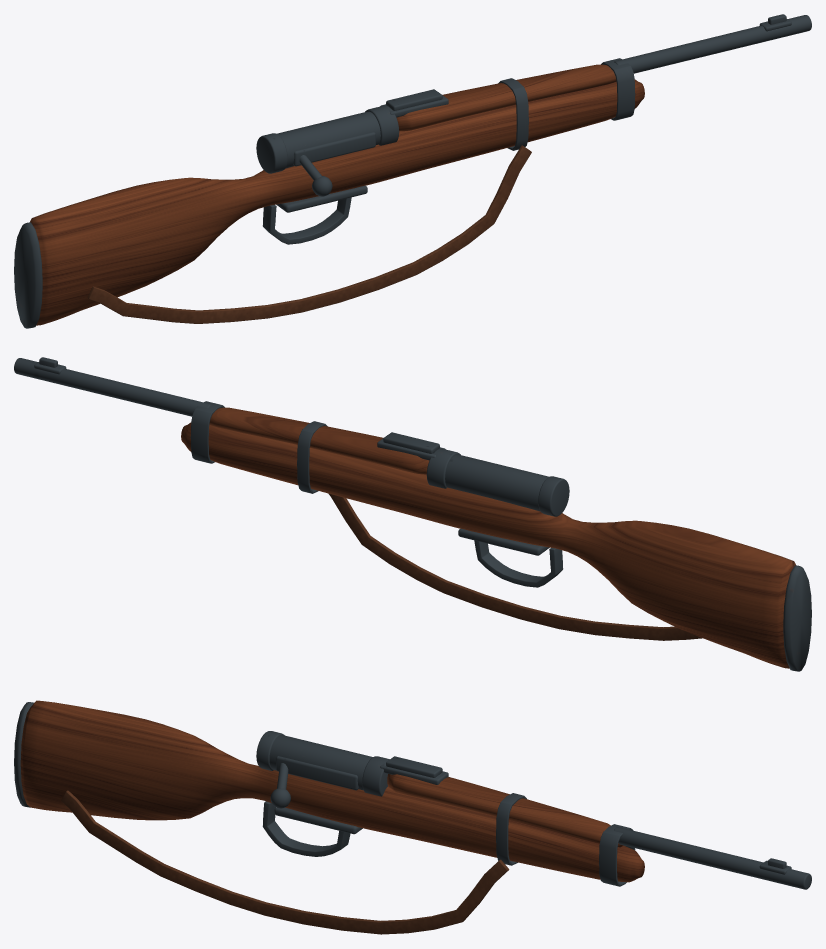
Rendered from kar98k-exterior-standard.glb.
3 views of the same model, one above another, from view 1: azimuth 30°, elevation 25°; view 2: azimuth 150°, elevation 25°; view 3: azimuth 330°, elevation 25° (orthographic).
Parts seen in each view (by area): view 1: stock_shell, sling_visual, upper_wood_cover, solid_front_visual_no_bore, butt_cap, closed_upper_metal_shell, external_guard_no_trigger, upper_shell_side_plate, front_contour_band, rear_shell_rim, decorative_band, underside_solid_detail (+2 smaller); view 2: stock_shell, sling_visual, upper_wood_cover, closed_upper_metal_shell, solid_front_visual_no_bore, butt_cap, external_guard_no_trigger, front_contour_band, rear_shell_rim, decorative_band, underside_solid_detail, front_shell_rim (+1 smaller); view 3: stock_shell, sling_visual, upper_wood_cover, solid_front_visual_no_bore, closed_upper_metal_shell, external_guard_no_trigger, upper_shell_side_plate, front_contour_band, decorative_band, front_shell_rim, underside_solid_detail, butt_cap (+3 smaller).
Boxes of the visible parts, x1,y1,x2,y2 form: stock_shell: (30, 79, 644, 325); sling_visual: (87, 145, 531, 323); upper_wood_cover: (396, 64, 616, 131); solid_front_visual_no_bore: (614, 15, 811, 73); butt_cap: (14, 222, 42, 328); closed_upper_metal_shell: (276, 111, 380, 168); external_guard_no_trigger: (262, 197, 351, 244); upper_shell_side_plate: (293, 132, 375, 166); front_contour_band: (601, 58, 635, 120); rear_shell_rim: (256, 133, 287, 173); decorative_band: (498, 78, 528, 150); underside_solid_detail: (276, 185, 367, 212); stock_shell: (181, 422, 795, 668); sling_visual: (328, 493, 702, 640); upper_wood_cover: (209, 407, 429, 474); closed_upper_metal_shell: (445, 454, 549, 511); solid_front_visual_no_bore: (14, 358, 211, 416); butt_cap: (783, 565, 811, 671); external_guard_no_trigger: (474, 540, 563, 587); front_contour_band: (190, 401, 224, 463); rear_shell_rim: (538, 476, 569, 516); decorative_band: (297, 421, 327, 493); underside_solid_detail: (458, 528, 549, 555); front_shell_rim: (426, 448, 460, 488); stock_shell: (20, 700, 644, 882); sling_visual: (61, 790, 509, 934); upper_wood_cover: (387, 774, 622, 847); solid_front_visual_no_bore: (614, 827, 811, 889); closed_upper_metal_shell: (269, 735, 372, 790); external_guard_no_trigger: (262, 801, 350, 856); upper_shell_side_plate: (276, 756, 358, 790); front_contour_band: (599, 824, 635, 886); decorative_band: (496, 793, 526, 865); front_shell_rim: (362, 756, 389, 796); underside_solid_detail: (274, 807, 362, 834); butt_cap: (14, 702, 33, 807).
Bounding box in the file's own units: 4.79 × 0.9895 × 0.42.
3 materials, 3 textured.
